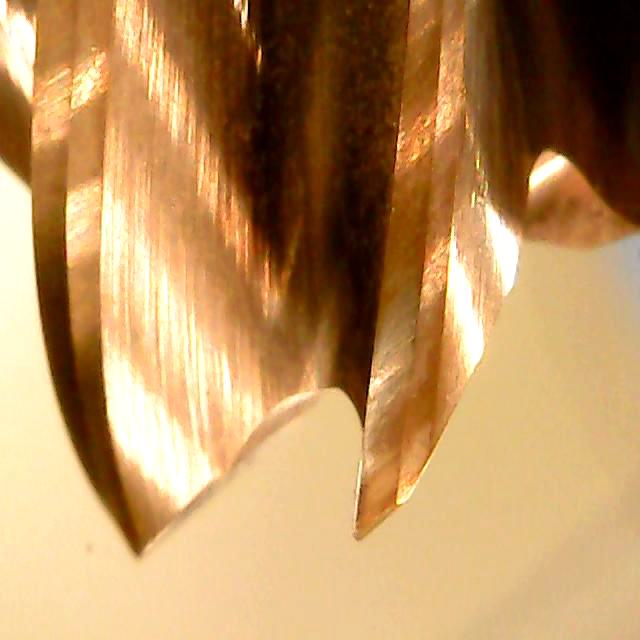Tool-wear-class-0: (338, 217, 468, 543)
